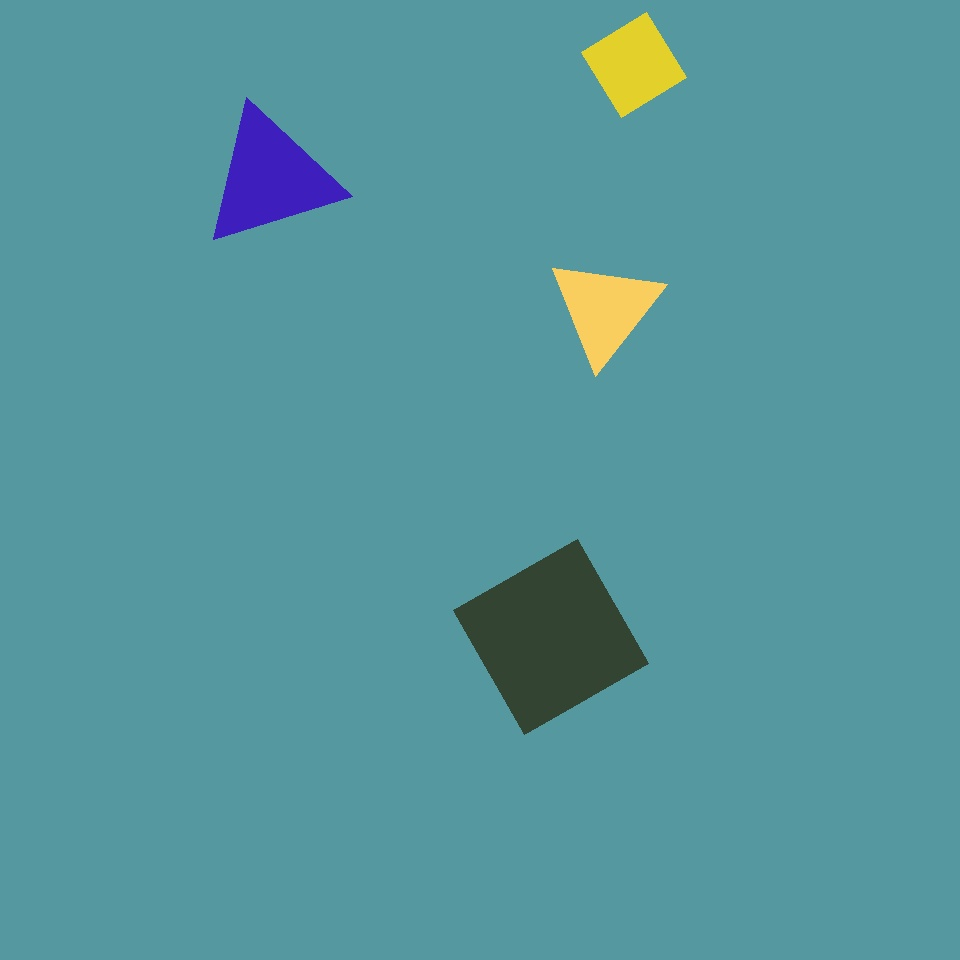circle: (520, 108, 839, 407), (139, 483, 368, 692), (272, 744, 434, 906), (202, 107, 340, 249), (44, 371, 170, 490), (548, 256, 663, 364)
square: (533, 168, 830, 466), (481, 546, 736, 802), (482, 328, 688, 534), (565, 218, 771, 423), (454, 540, 648, 734), (582, 12, 686, 118)
